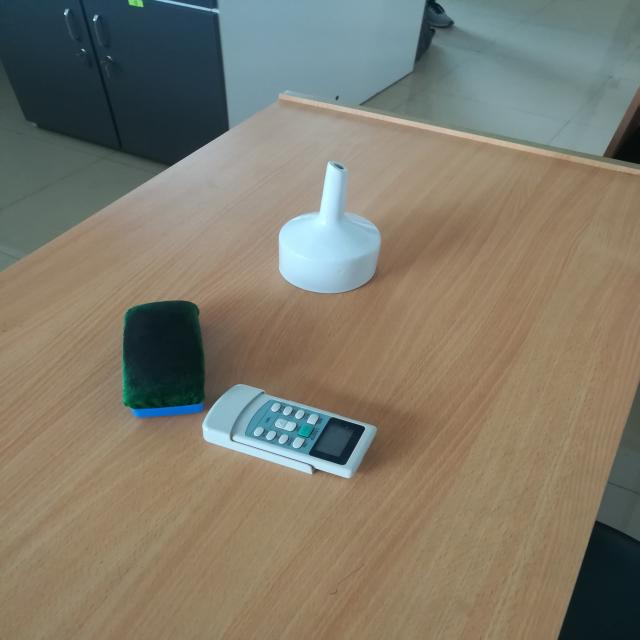Buchner_Funnel: (224, 133, 397, 326)
